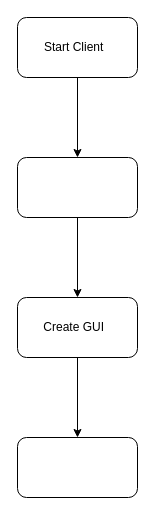
Image size: 155x515. Some labels were removed from this diagram. Here are the shapes that lost their labels. From the top down, the centre of each, then its label:
pixel 77 187: Connect to Server
pixel 77 467: Send/Receive Msg
